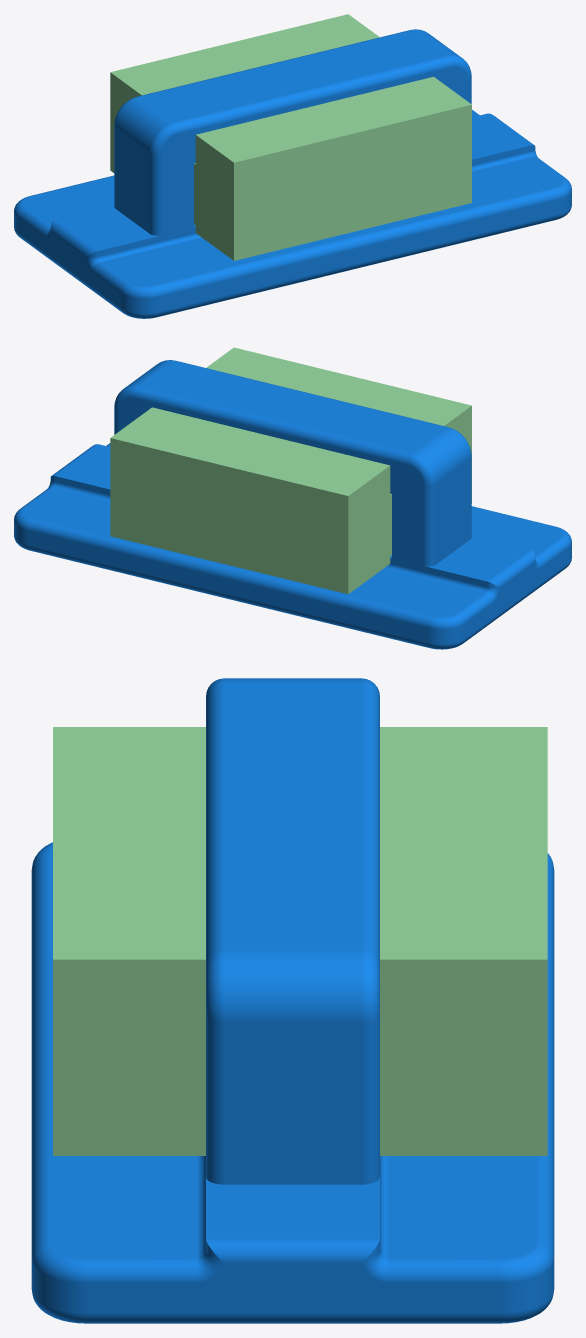
The model's file is terminal_block_mag_base.glb.
3 renders of one model, top to bottom at view 1: azimuth 30°, elevation 25°; view 2: azimuth 150°, elevation 25°; view 3: azimuth 270°, elevation 25°, orthographic. The views are drawn at different scales.
Parts seen in each view (by area): view 1: Terminal Block Mag Base.SLDPRT; view 2: Terminal Block Mag Base.SLDPRT; view 3: Terminal Block Mag Base.SLDPRT.
Part boxes in pixels (x1,y1,x2,y2): Terminal Block Mag Base.SLDPRT: (14, 14, 571, 318); Terminal Block Mag Base.SLDPRT: (14, 347, 571, 649); Terminal Block Mag Base.SLDPRT: (31, 678, 554, 1323).
Bounding box in the file's own units: 0.0564 × 0.0177 × 0.0285.
